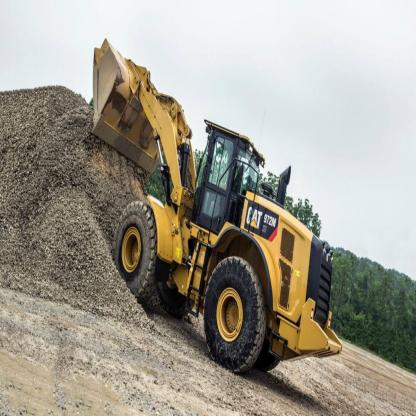bull_dozer/loader/grader: (88, 35, 353, 404)
